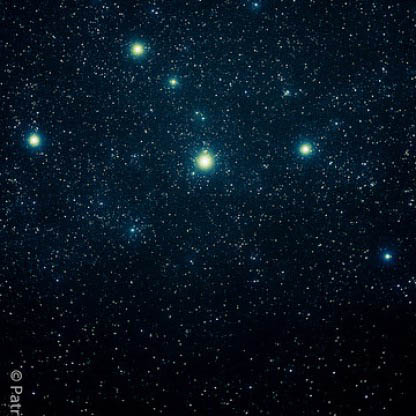Cassiopeia: (123, 35, 186, 98), (184, 137, 226, 181), (288, 128, 322, 169), (20, 122, 49, 163), (372, 239, 399, 275)
